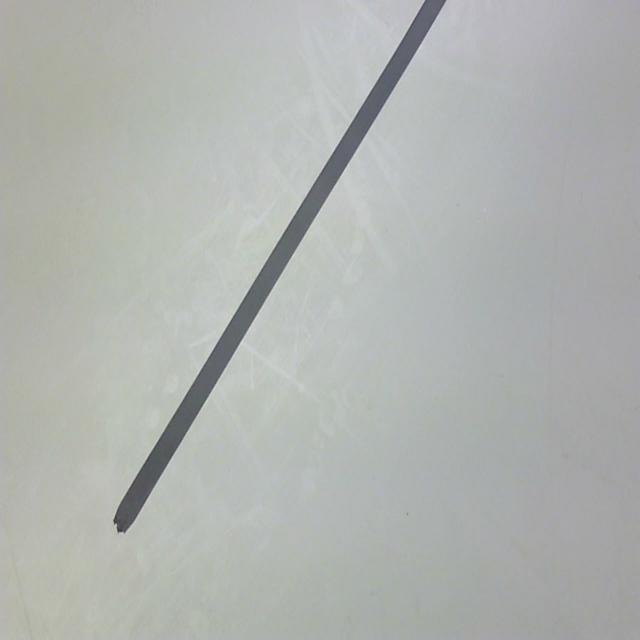tape: (86, 0, 471, 557)
